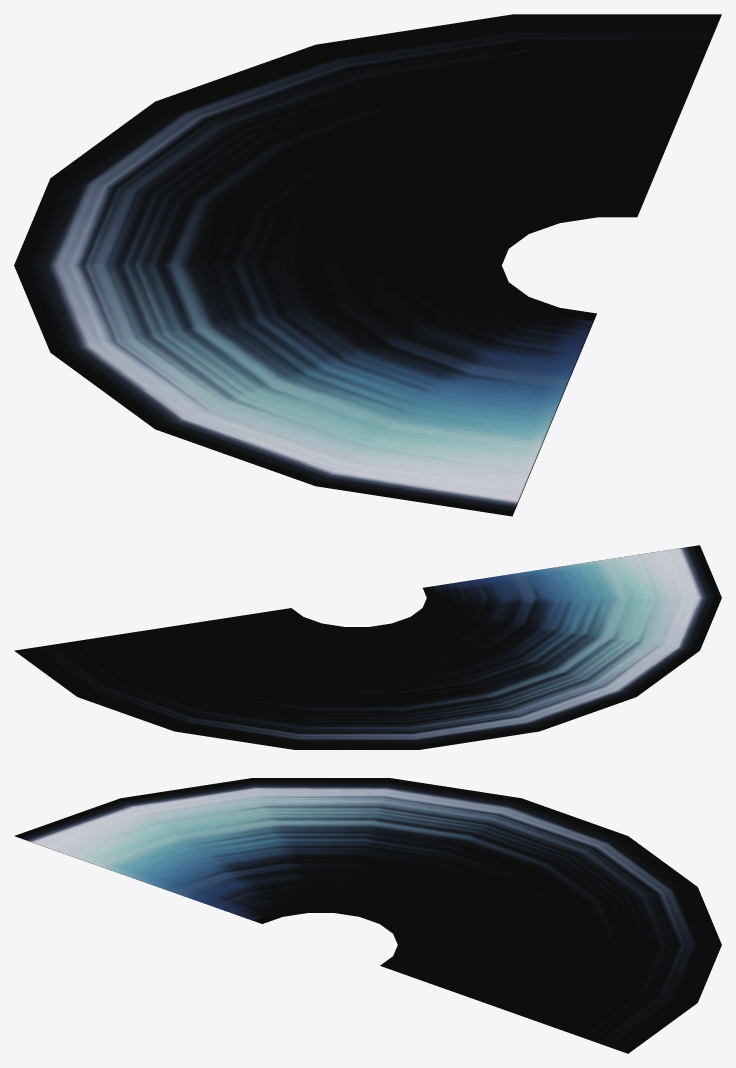
The model's file is h_131_shixiang_skill_02.FBX.
3 renders of one model, top to bottom at view 1: azimuth 30°, elevation 25°; view 2: azimuth 150°, elevation 25°; view 3: azimuth 270°, elevation 25°, orthographic. The views are drawn at different scales.
Visible parts, largest first — view 1: Tube002; view 2: Tube002; view 3: Tube002.
Part boxes in pixels (bbox=[...]): Tube002: bbox=[14, 14, 721, 516]; Tube002: bbox=[14, 545, 721, 749]; Tube002: bbox=[14, 778, 721, 1053].
Bounding box in the file's own units: 214 × 1.42e-14 × 232.
